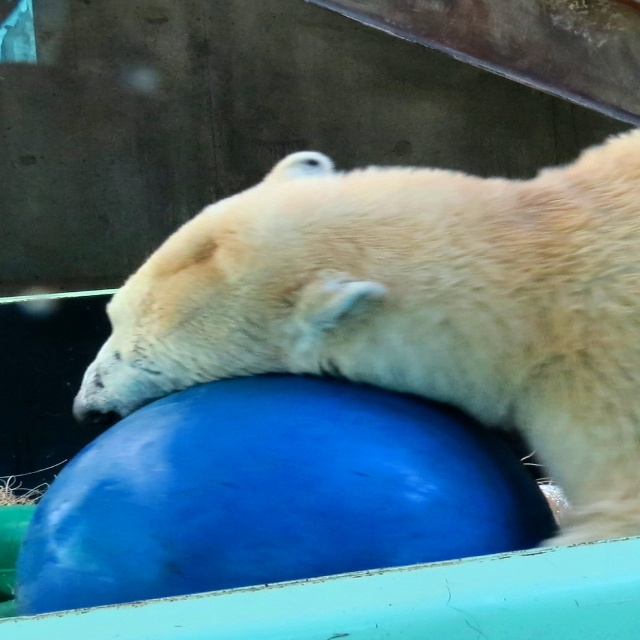Polar bear: (71, 126, 640, 547)
